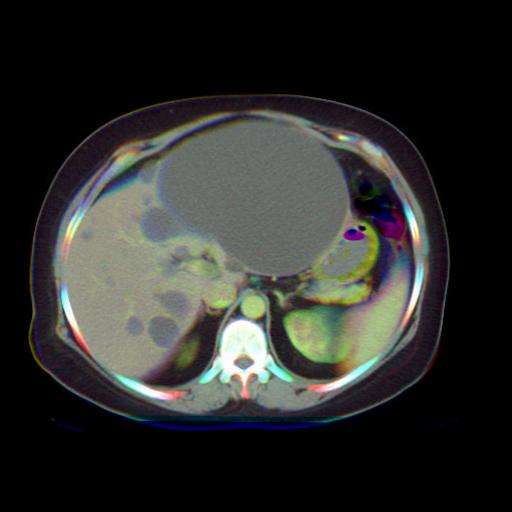Cyst: (157, 120, 349, 273), (141, 208, 181, 240), (155, 290, 191, 318), (148, 316, 178, 346), (126, 316, 143, 334)
